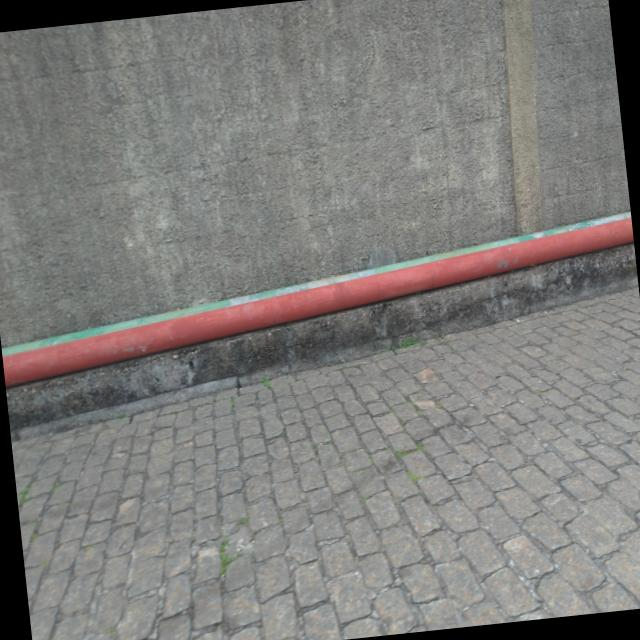gas: (2, 216, 634, 388)
